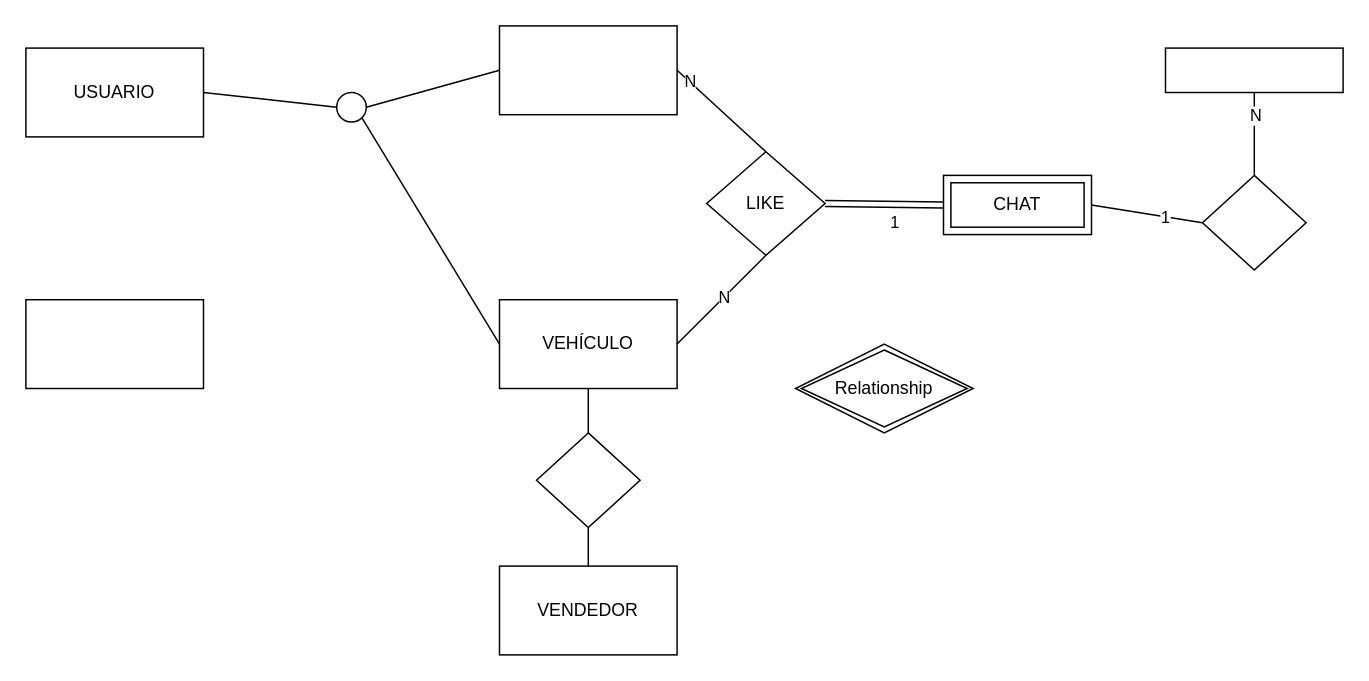
The diagram is 1369 pixels wide and 681 high, and some of its shapes have lost their labels. Here are the shapes that lost their labels. From the top down, the centre of each, then its label:
At (x=587, y=69): "COMPRADOR".
At (x=1253, y=69): "MENSAJE".
At (x=114, y=343): "EMPRESA".
